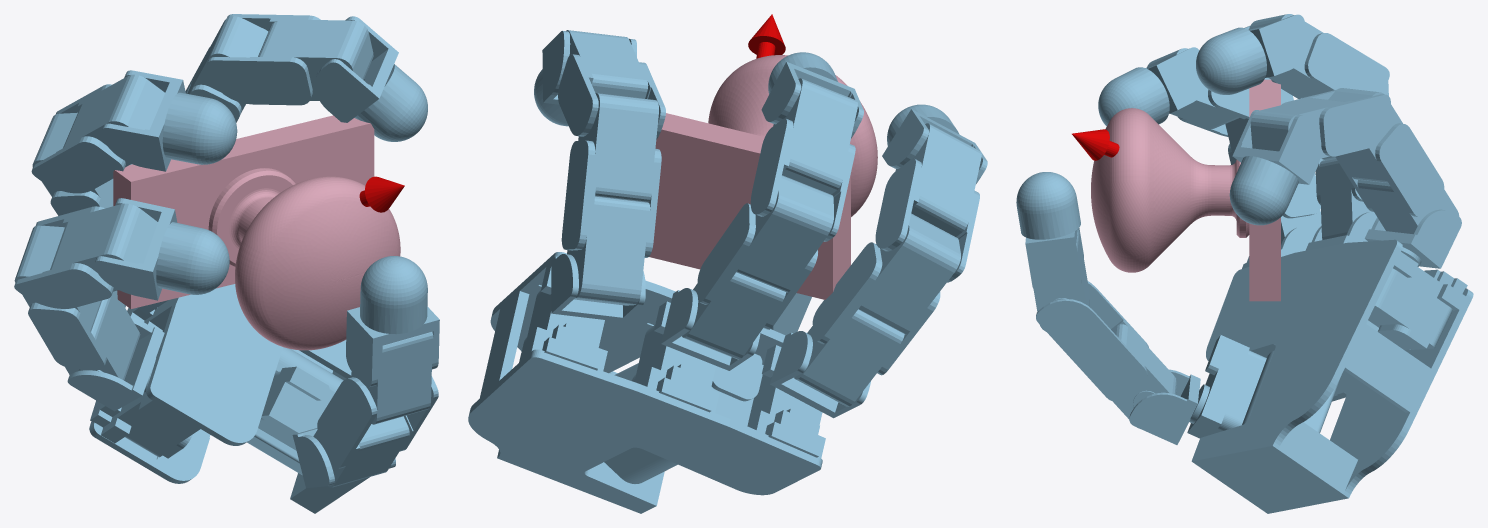
The picture shows the model from 3 angles, left to right: view 1: azimuth 30°, elevation 25°; view 2: azimuth 150°, elevation 25°; view 3: azimuth 270°, elevation 25°; orthographic projection. The views are drawn at different scales.
Parts seen in each view (by area): view 1: world, door_knob.stl; view 2: world, door_knob.stl; view 3: world, door_knob.stl.
Part boxes in pixels (x1,y1,x2,y2): world: (14, 14, 439, 513); door_knob.stl: (113, 115, 400, 350); world: (468, 14, 987, 513); door_knob.stl: (649, 55, 877, 299); world: (1016, 14, 1473, 513); door_knob.stl: (1091, 79, 1280, 301).
Bounding box in the file's own units: 0.1745 × 0.1855 × 0.1804.
